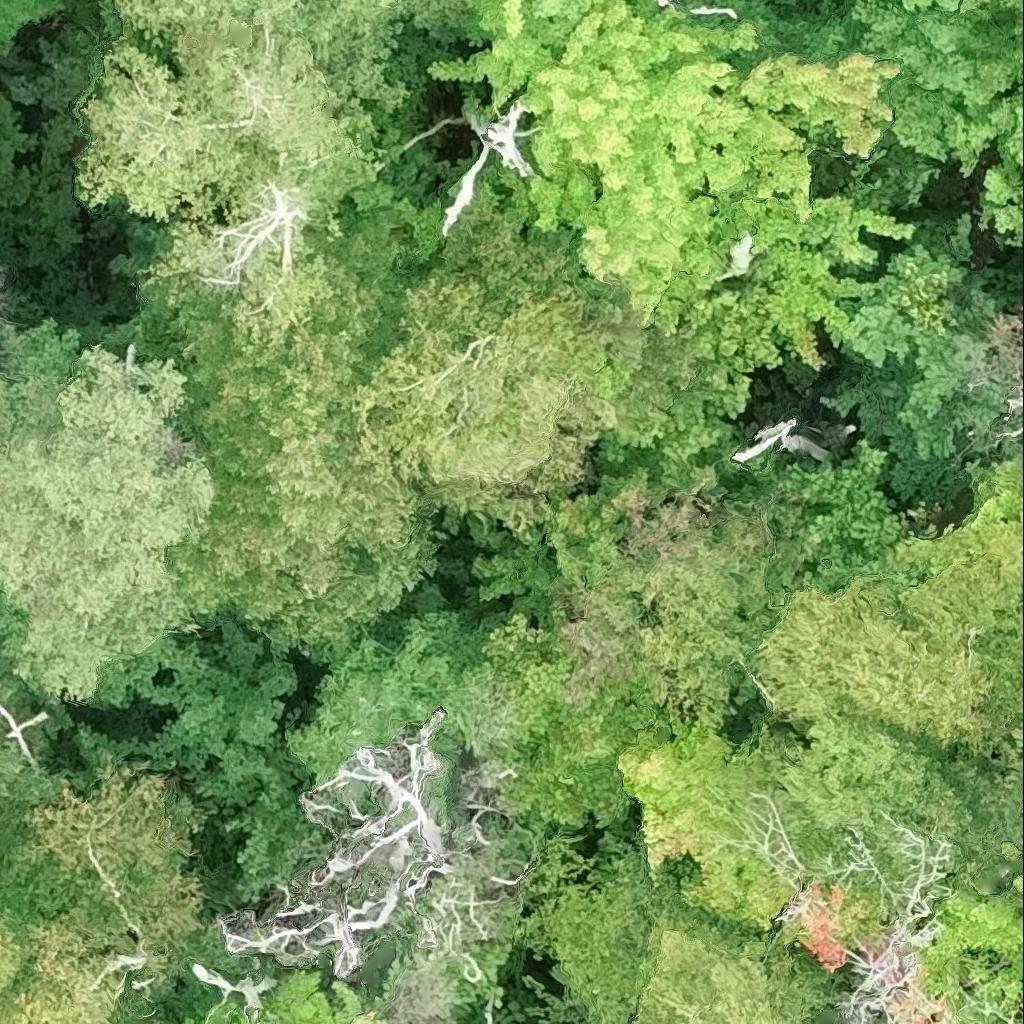crown: (102, 157, 467, 665), (424, 5, 901, 331), (73, 11, 423, 360), (338, 147, 621, 545), (0, 342, 216, 708), (222, 714, 511, 983), (679, 0, 1023, 178), (750, 537, 1023, 750), (825, 212, 1023, 505), (521, 847, 834, 1023), (0, 772, 205, 1023), (761, 831, 1023, 1023), (621, 719, 827, 933), (479, 607, 664, 826), (111, 0, 470, 111), (723, 194, 923, 370), (576, 307, 757, 491), (774, 713, 966, 871), (772, 441, 900, 592), (887, 457, 1023, 578), (444, 101, 530, 230), (456, 0, 669, 46), (969, 88, 1023, 245), (733, 417, 829, 465), (713, 232, 752, 282), (657, 0, 737, 18), (901, 0, 983, 15), (1004, 384, 1023, 408), (1001, 420, 1023, 437), (1014, 873, 1023, 905), (1014, 725, 1023, 753), (864, 0, 875, 2)
